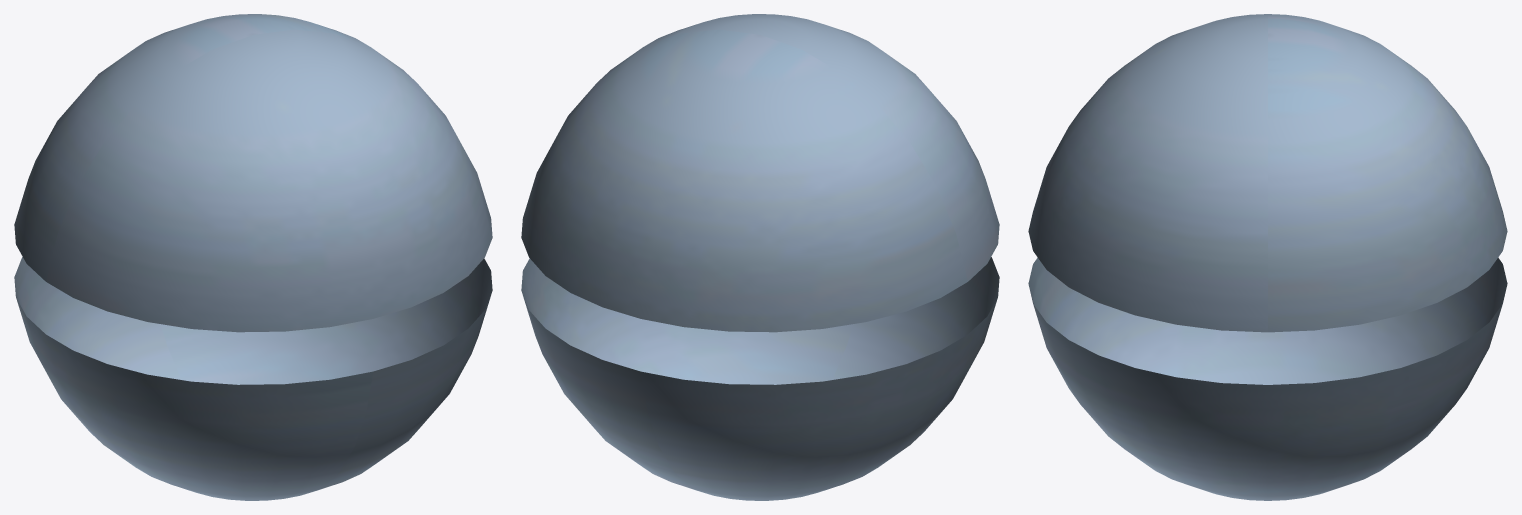
Rendered from PlanarIndicator.DAE.
3 views of the same model, side by side, from view 1: azimuth 30°, elevation 25°; view 2: azimuth 150°, elevation 25°; view 3: azimuth 270°, elevation 25° (orthographic).
Parts seen in each view (by area): view 1: planarIndicator_PIVOT; view 2: planarIndicator_PIVOT; view 3: planarIndicator_PIVOT.
Part boxes in pixels (x1=…): planarIndicator_PIVOT: x1=14, y1=14, x2=492, y2=500; planarIndicator_PIVOT: x1=521, y1=14, x2=999, y2=500; planarIndicator_PIVOT: x1=1028, y1=14, x2=1507, y2=500.
Size of the model in its own units: 16.28 by 16.28 by 16.69.
1 material, 1 textured.
